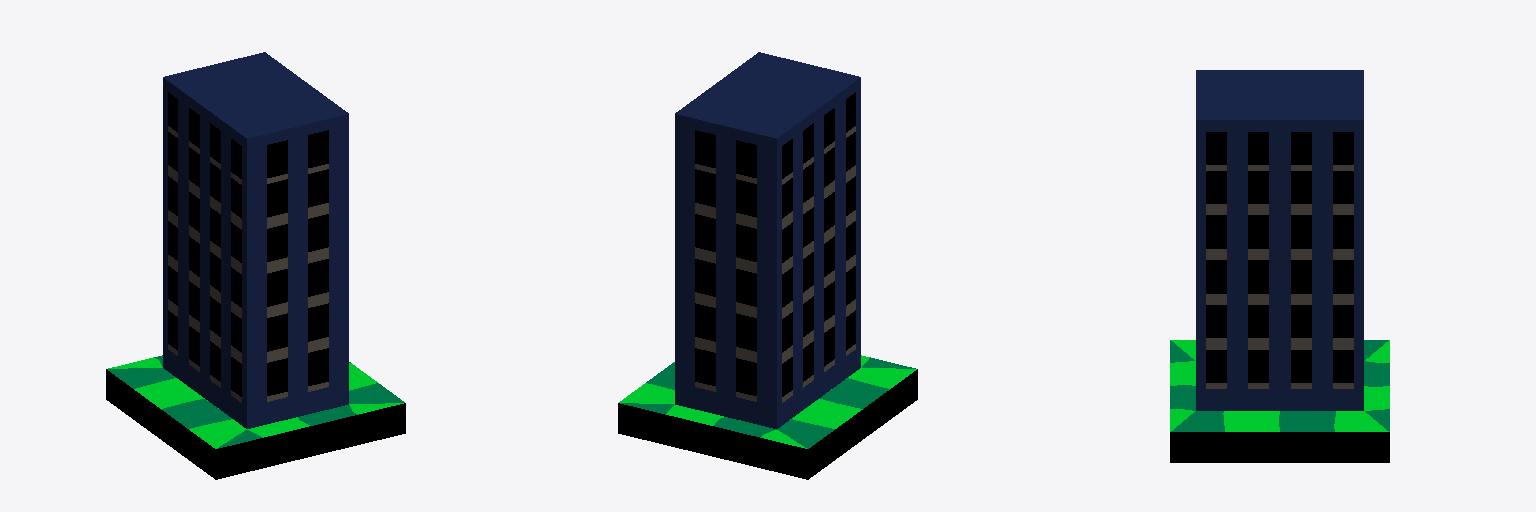
3 views of the same model, side by side, from view 1: azimuth 30°, elevation 25°; view 2: azimuth 150°, elevation 25°; view 3: azimuth 270°, elevation 25° (orthographic).
Visible parts, largest first — view 1: tile_build_lg; view 2: tile_build_lg; view 3: tile_build_lg.
Boxes of the visible parts, x1=… form: tile_build_lg: x1=106, y1=52, x2=405, y2=479; tile_build_lg: x1=618, y1=52, x2=917, y2=479; tile_build_lg: x1=1170, y1=70, x2=1389, y2=462.
Bounding box in the file's own units: 6.5 × 10.5 × 6.5.
1 materials, 1 textured.